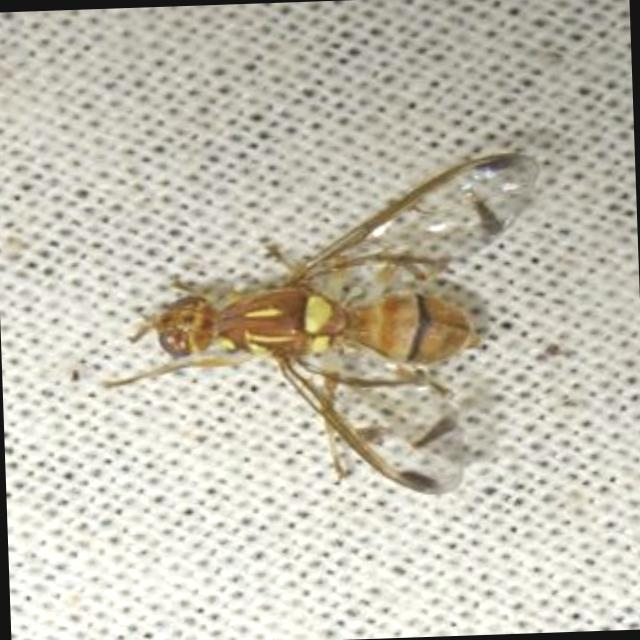melon fly: (37, 88, 584, 591)
